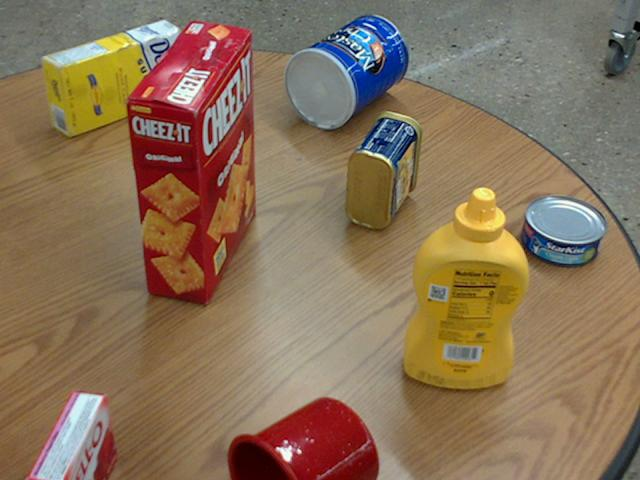cracker_box: (126, 21, 252, 303)
gelatin_box: (20, 391, 112, 479)
master_chef_can: (282, 14, 406, 128)
mug: (224, 398, 377, 479)
mustard_bottle: (401, 187, 527, 388)
potted_meat_can: (345, 111, 420, 228)
sugar_box: (41, 19, 186, 135)
tuna_fish_can: (519, 195, 603, 266)
